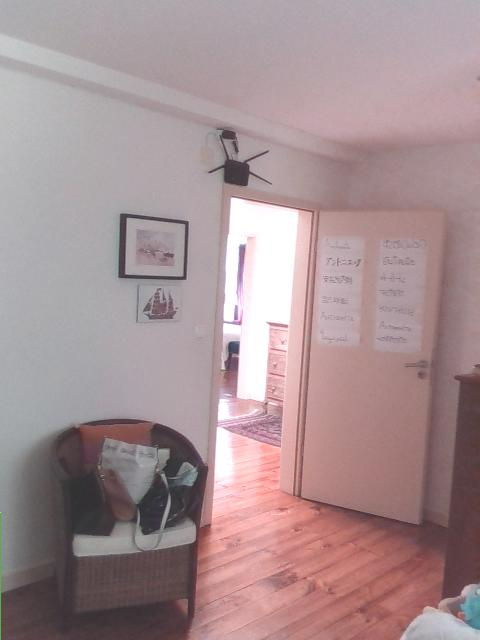open_door: (204, 183, 328, 526)
